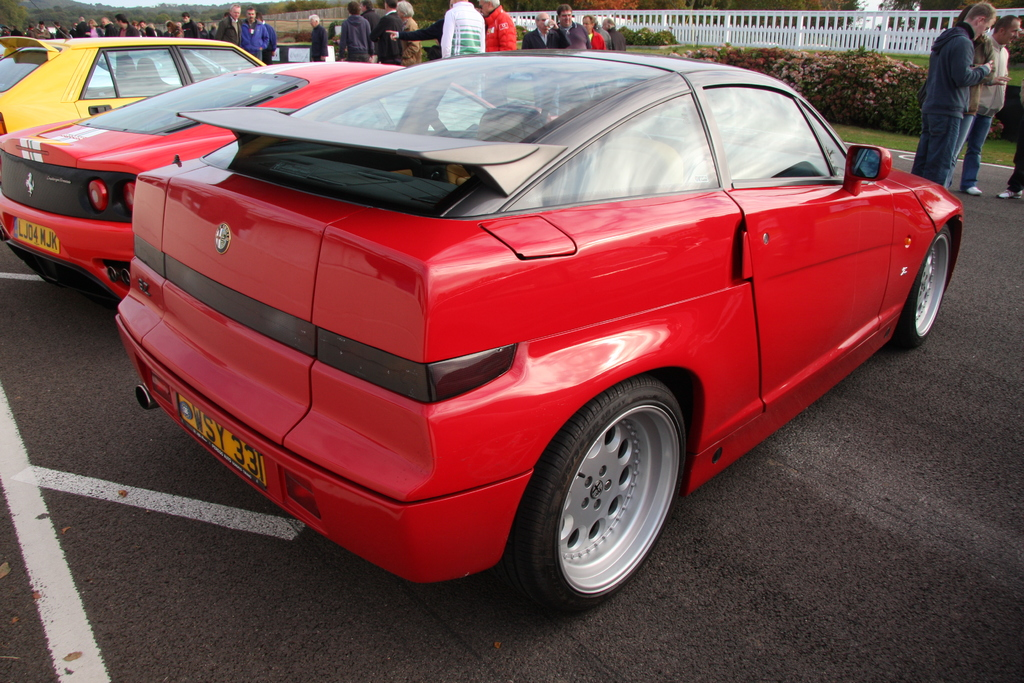Car: (28, 38, 945, 600), (0, 58, 414, 295), (0, 31, 270, 141)
